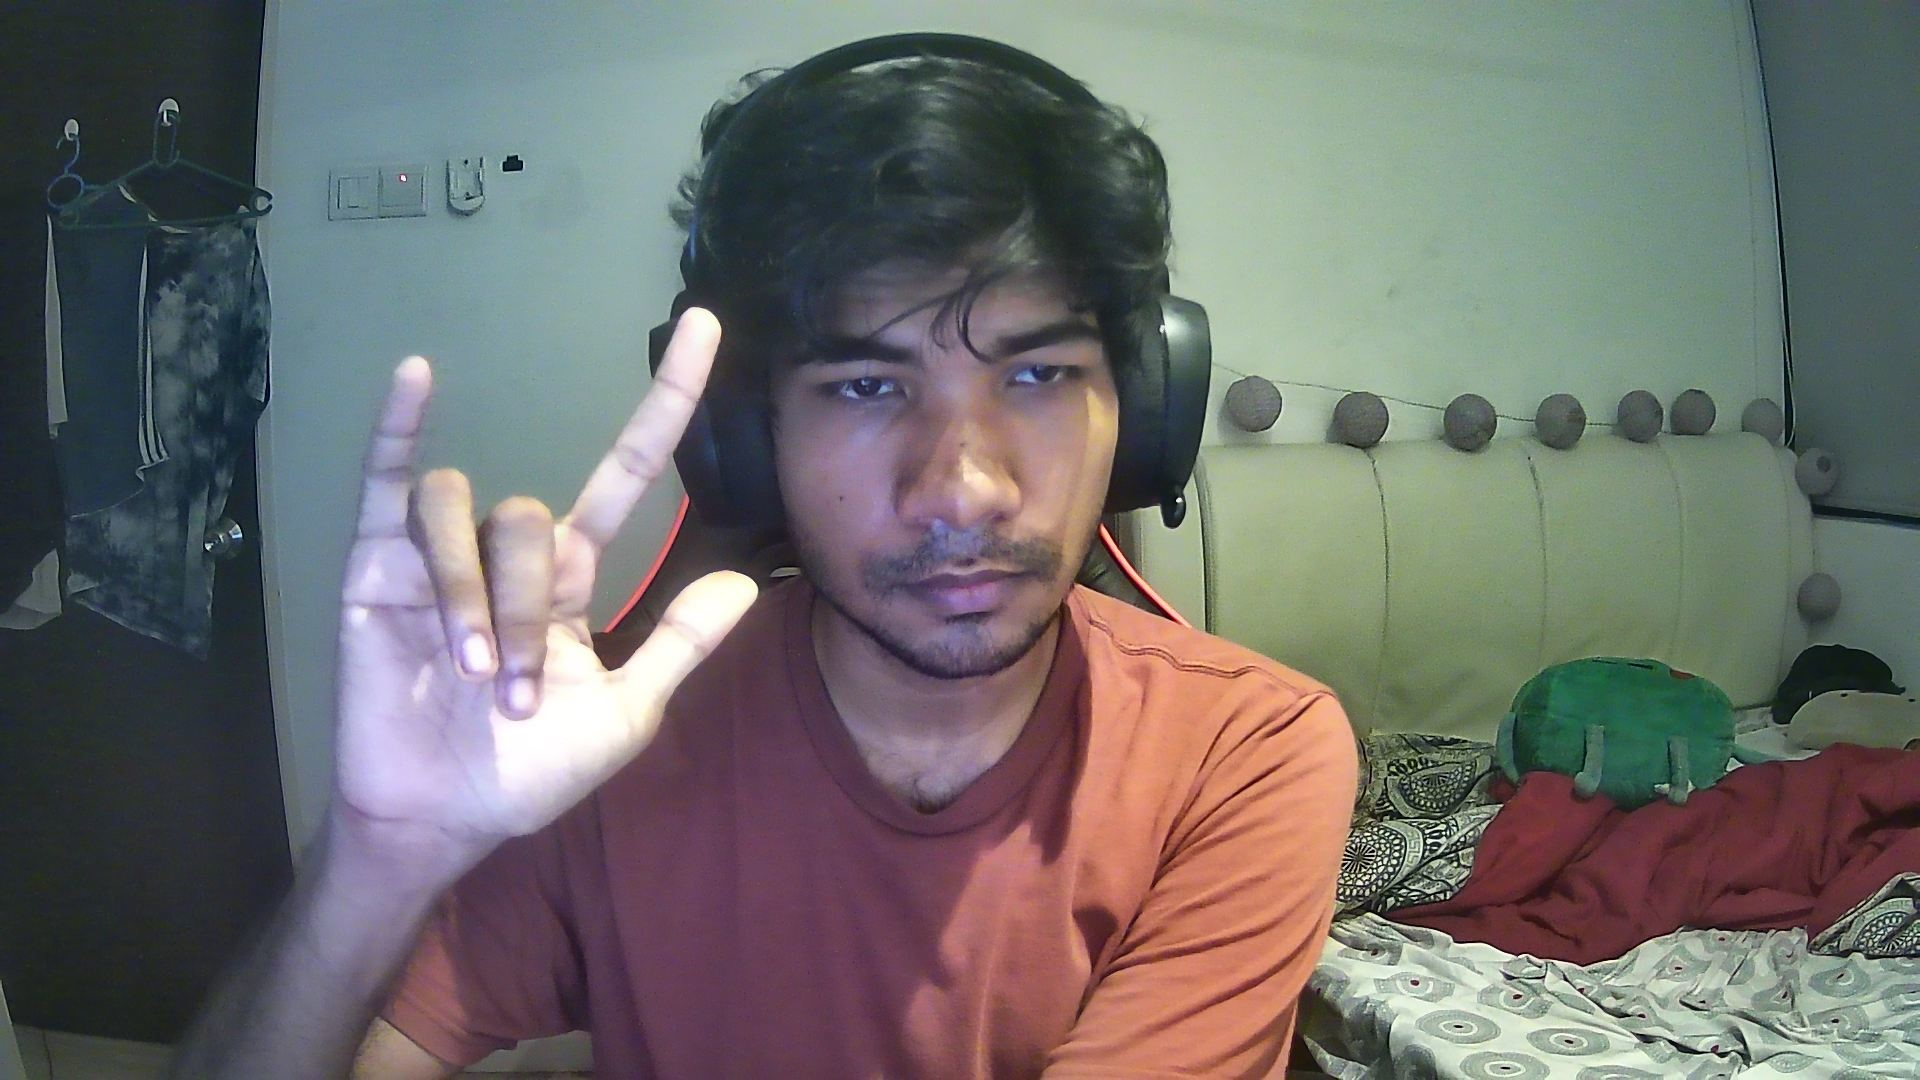I Love You: (291, 299, 771, 829)
